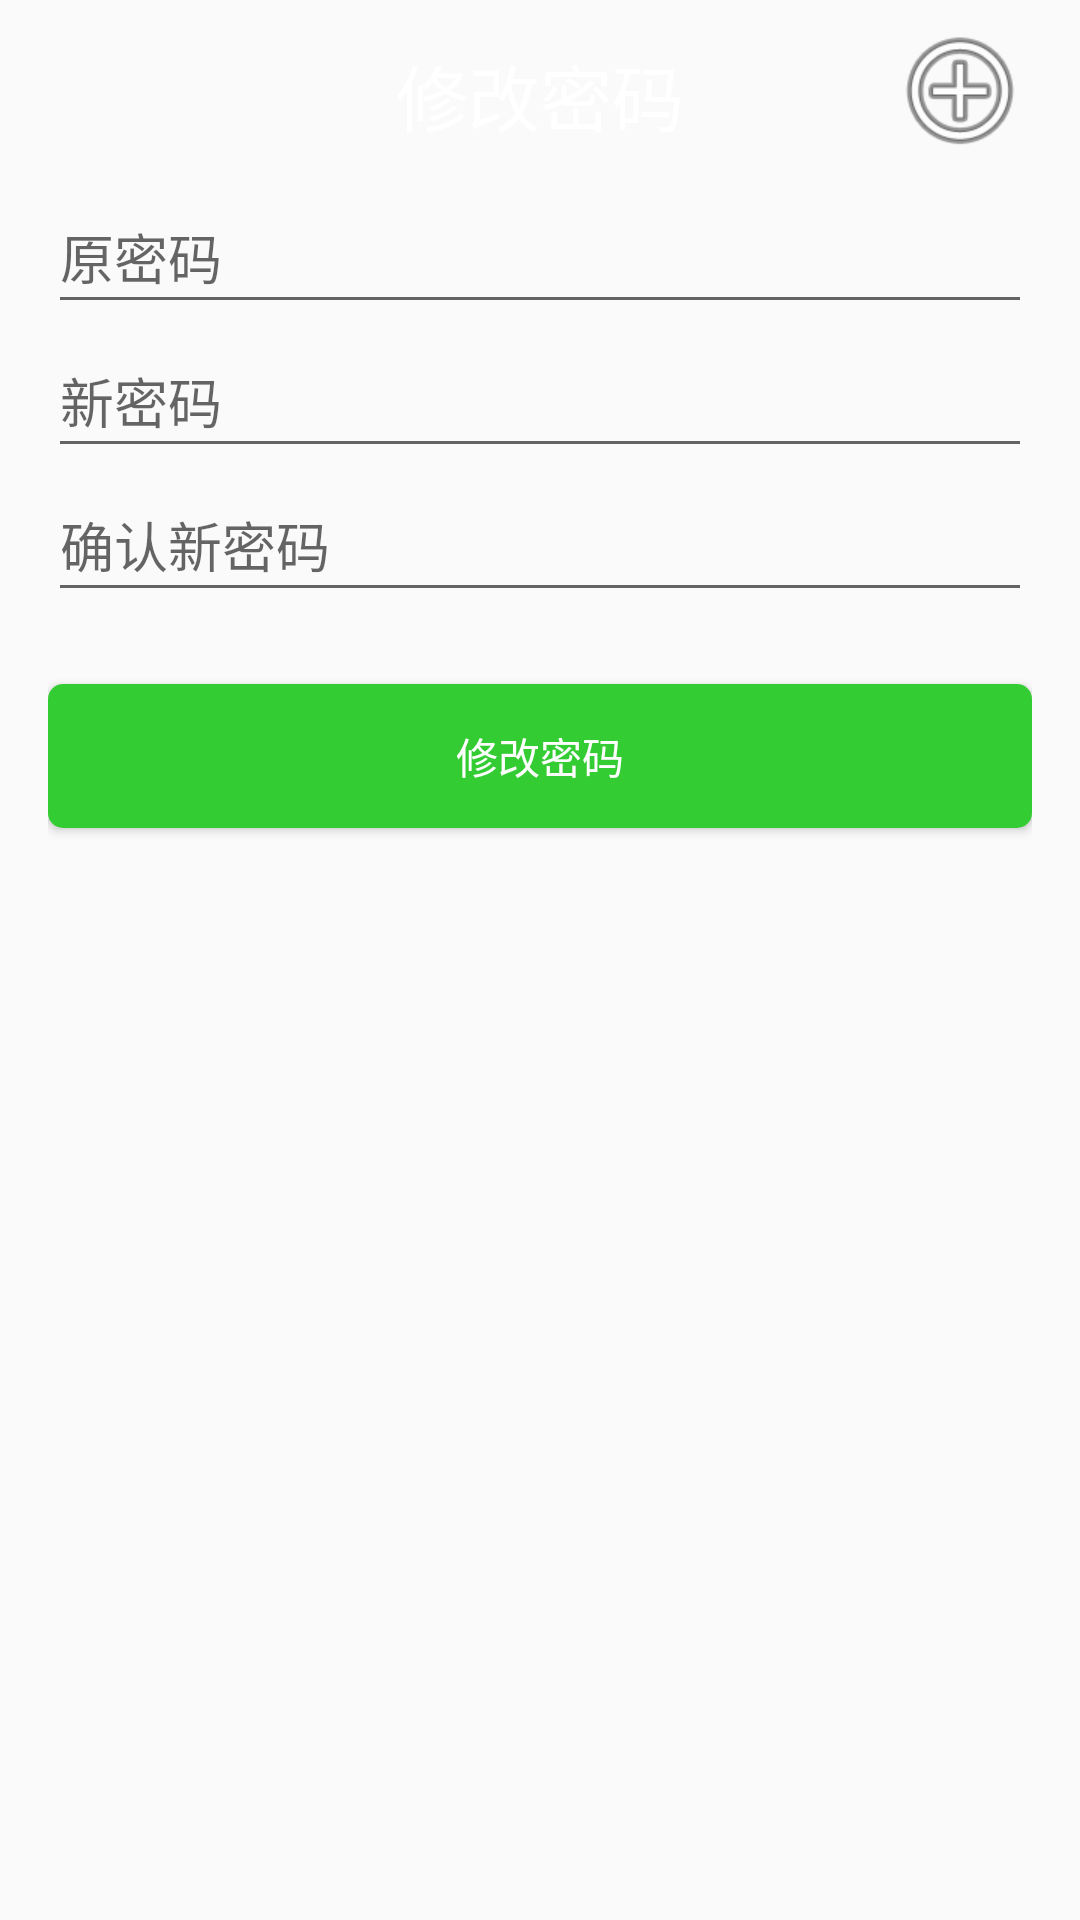

Where to tap for icons on this 1080 x 1920 app screen, as (x,y):
add: (960,90)
